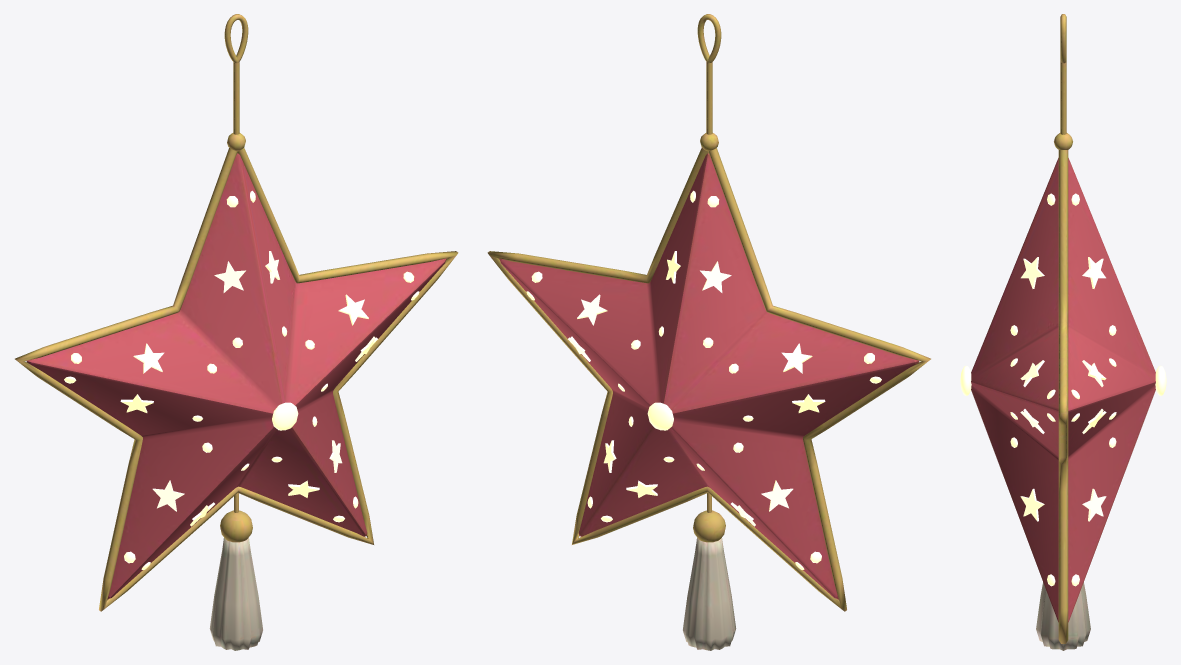
File: star-lantern.glb
3 renders of one model, left to right at view 1: azimuth 30°, elevation 25°; view 2: azimuth 150°, elevation 25°; view 3: azimuth 270°, elevation 25°, orthographic.
Parts seen in each view (by area): view 1: star-lantern_body, star-lantern_glow; view 2: star-lantern_body, star-lantern_glow; view 3: star-lantern_body, star-lantern_glow.
Part boxes in pixels (x1,y1,x2,y2): star-lantern_body: [15, 14, 458, 650]; star-lantern_glow: [64, 190, 419, 569]; star-lantern_body: [487, 14, 930, 650]; star-lantern_glow: [526, 190, 881, 569]; star-lantern_body: [971, 14, 1155, 650]; star-lantern_glow: [960, 193, 1166, 586].
Bounding box in the file's own units: 0.3672 × 0.4984 × 0.1488.
Materials: 2 (1 with a texture image).
